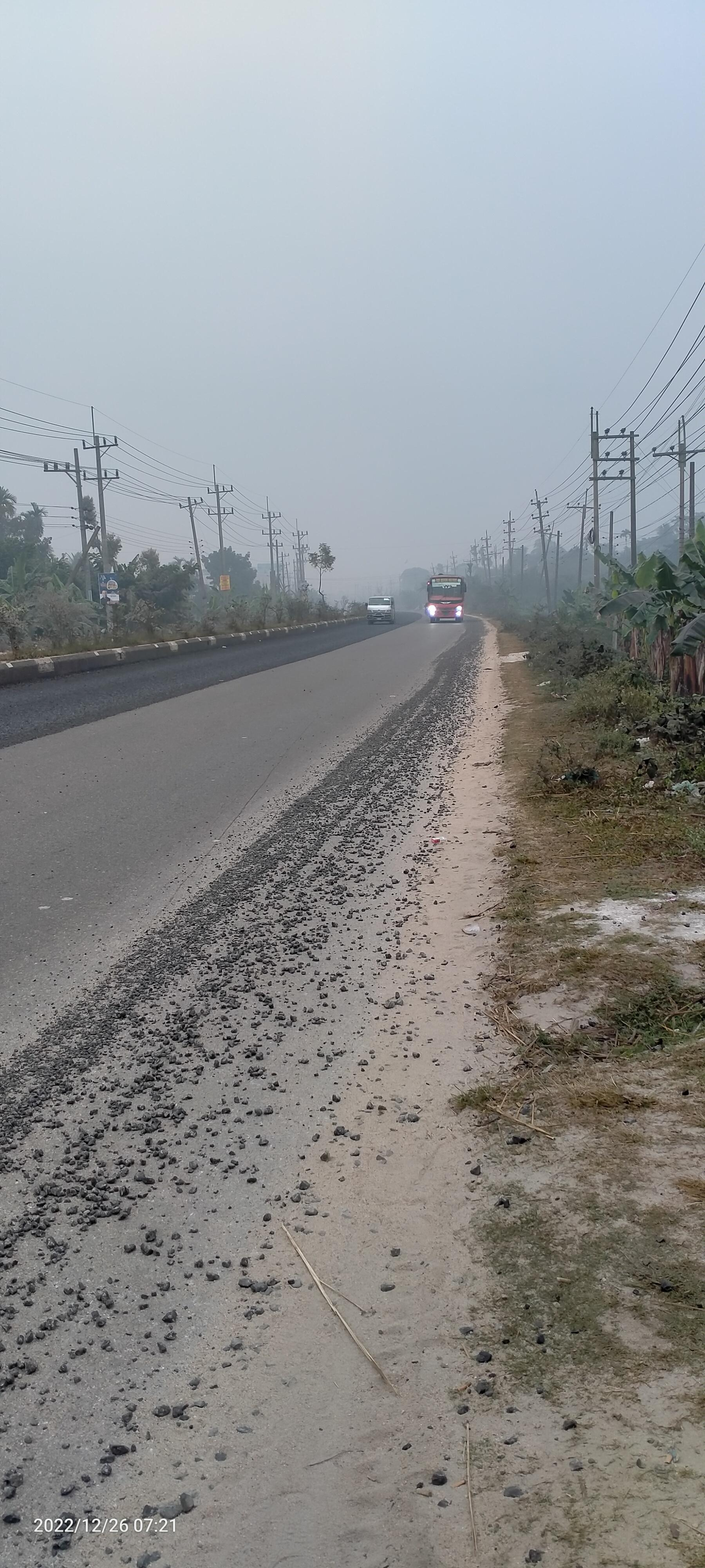Bus: (423, 565, 472, 635)
Car: (357, 584, 396, 632)
